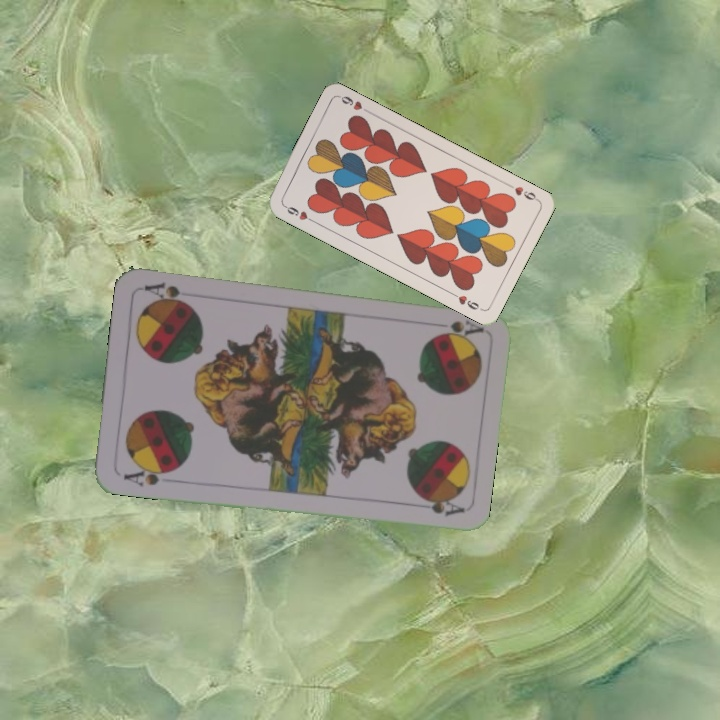H9: (503, 179, 541, 204), (279, 201, 317, 225)
SA: (119, 461, 176, 489), (429, 316, 486, 343)
